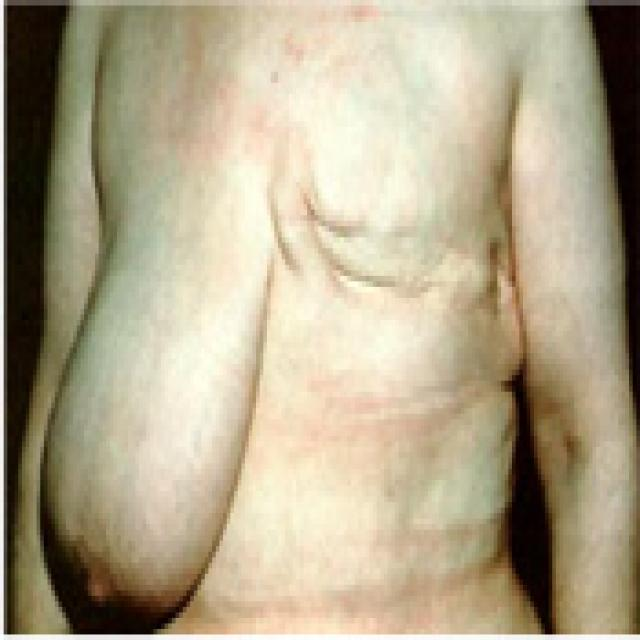Seno herido: (272, 134, 524, 356)
Seno ileso: (35, 134, 270, 636)
